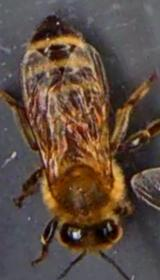varroa_mite: (62, 111, 92, 137)
